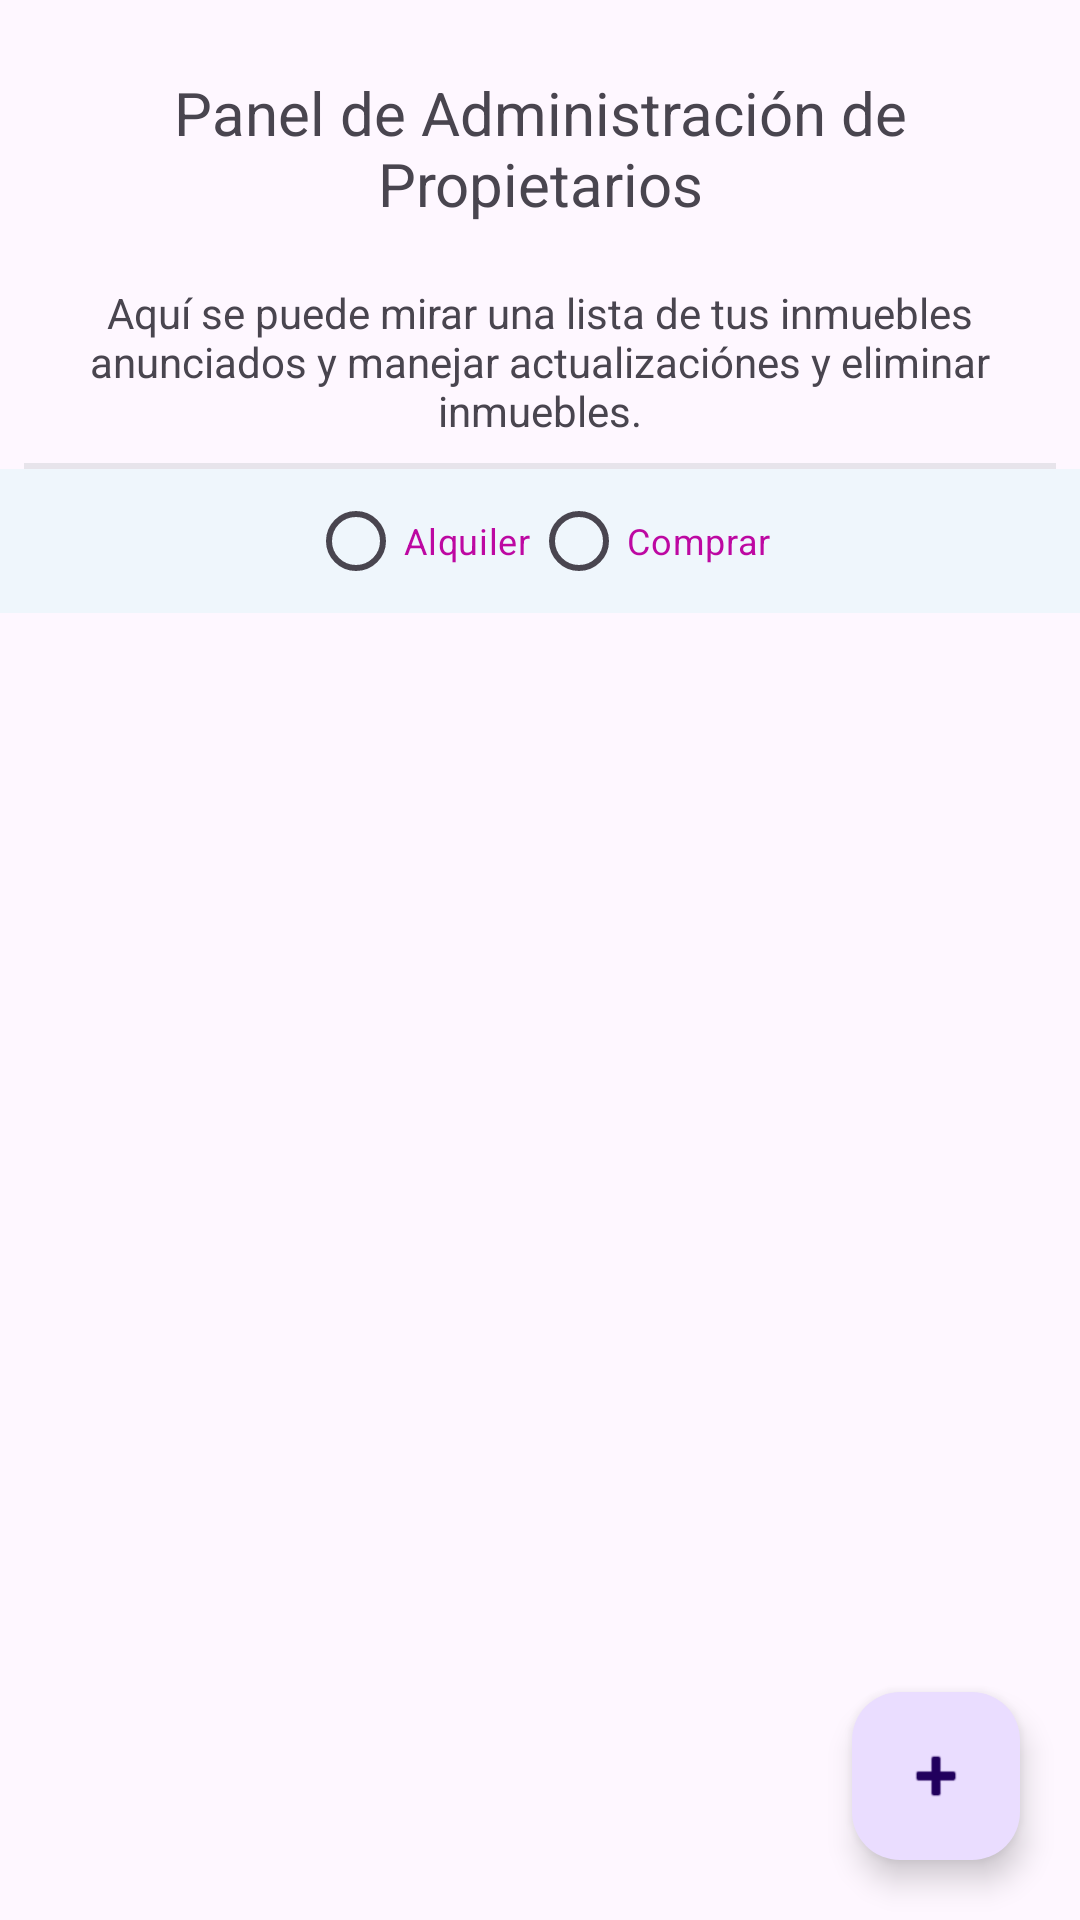

Locate icon controls on the screen. Image size 1080w x 1920h, boxes as [x1,y1,x2,y2].
Añade un inmueble: [852,1692,1020,1860]
